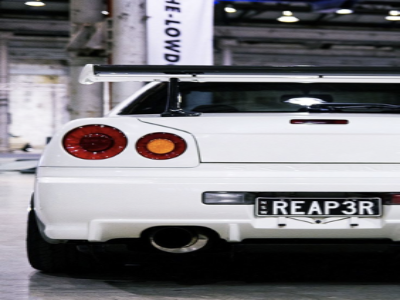licence: (257, 198, 382, 217)
